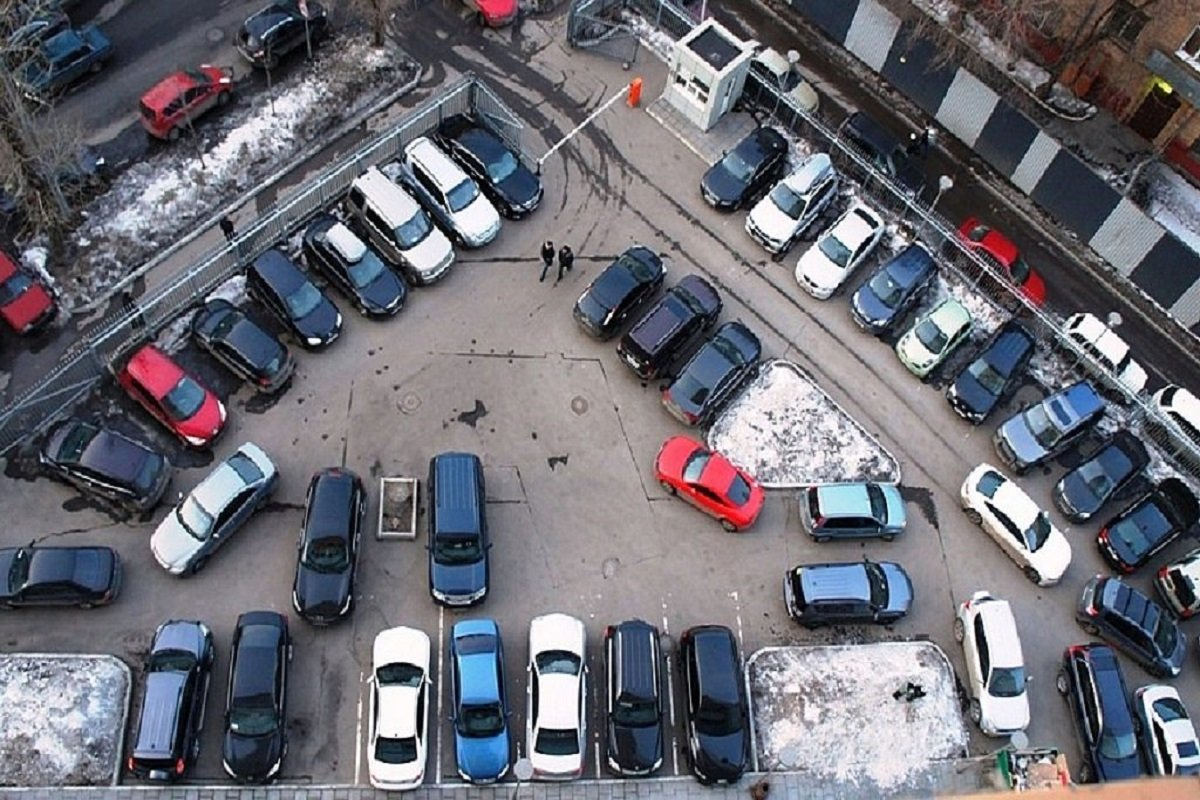Car: (150, 443, 278, 577), (127, 619, 216, 783), (959, 464, 1073, 587), (345, 168, 455, 285), (39, 420, 172, 516), (1057, 643, 1144, 783), (222, 611, 292, 783), (117, 345, 228, 450), (292, 468, 366, 625), (434, 114, 544, 219), (678, 626, 750, 785), (402, 137, 502, 250), (955, 591, 1031, 738), (617, 275, 722, 381), (1076, 576, 1185, 677), (366, 626, 432, 791), (655, 436, 766, 533), (661, 321, 762, 427), (302, 218, 407, 318), (449, 619, 512, 784), (995, 382, 1106, 474), (246, 248, 344, 350), (1096, 479, 1200, 575), (745, 153, 839, 259), (829, 111, 927, 212), (602, 620, 665, 777), (190, 299, 294, 394), (529, 613, 586, 780), (429, 451, 489, 608), (948, 219, 1047, 314), (1053, 430, 1151, 524), (0, 144, 112, 225), (946, 323, 1034, 425), (1053, 312, 1149, 405), (573, 245, 666, 338), (783, 561, 914, 627), (794, 206, 885, 300), (850, 244, 937, 336), (0, 545, 122, 608), (700, 126, 788, 211), (139, 65, 234, 141), (27, 23, 114, 101), (895, 298, 975, 380), (236, 0, 329, 70), (744, 38, 818, 123), (801, 482, 907, 541), (1133, 684, 1200, 776), (1145, 385, 1200, 471), (0, 249, 55, 334), (2, 7, 71, 60), (1152, 550, 1200, 620), (461, 0, 519, 27)
